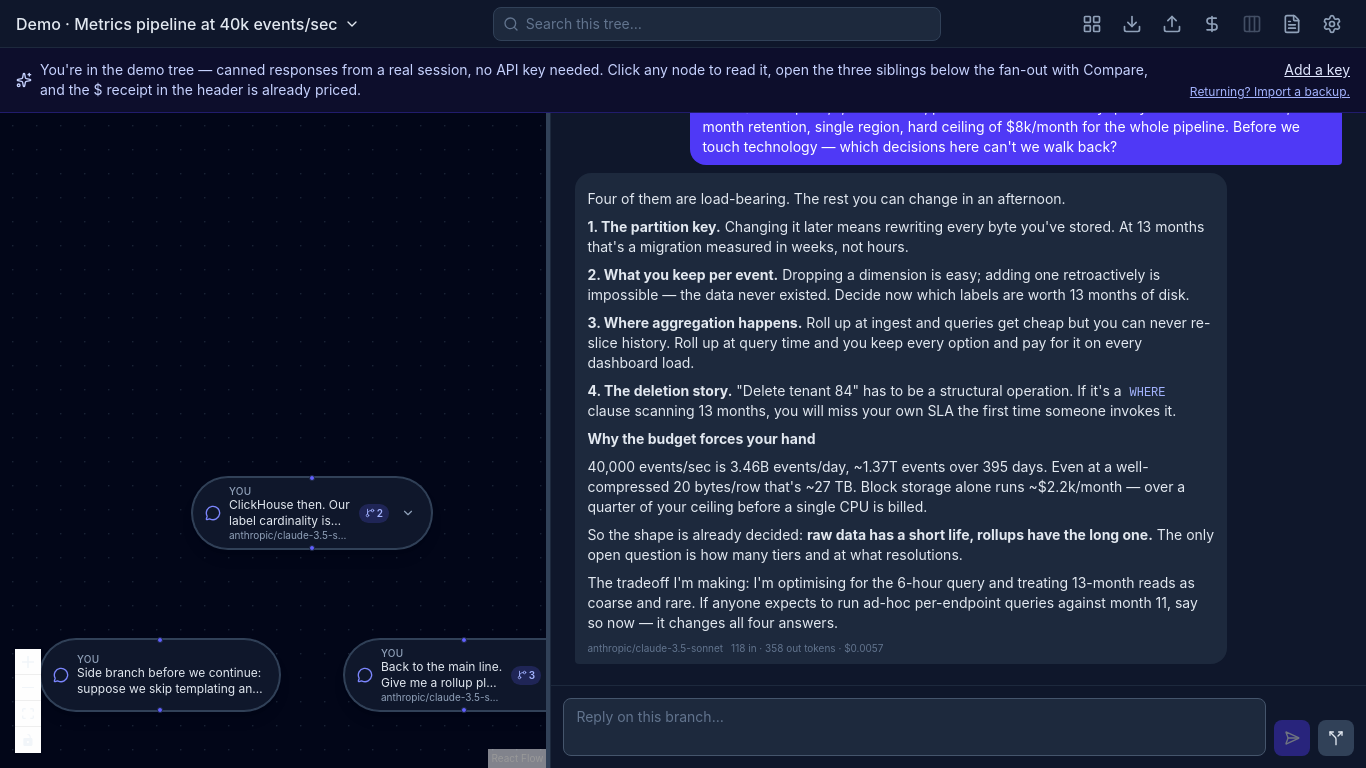
Test: first run with an empty database and no API key › lands on the demo tree, fully explorable, with a priced receipt
(page scrolled)
Expected: the button "Demo · Metrics pipeline at 40k events/sec" is shown, top-left (16, 12), bottom-right (360, 36)
Expected: the text "load-bearing" is shown, top-left (587, 190), bottom-right (1066, 207)
What coordinates should you click on to do the following:
click the button titled "Cost receipt for this tree"
I would click on:
 (1212, 24)
Its box is top-left (1194, 6), bottom-right (1230, 42).
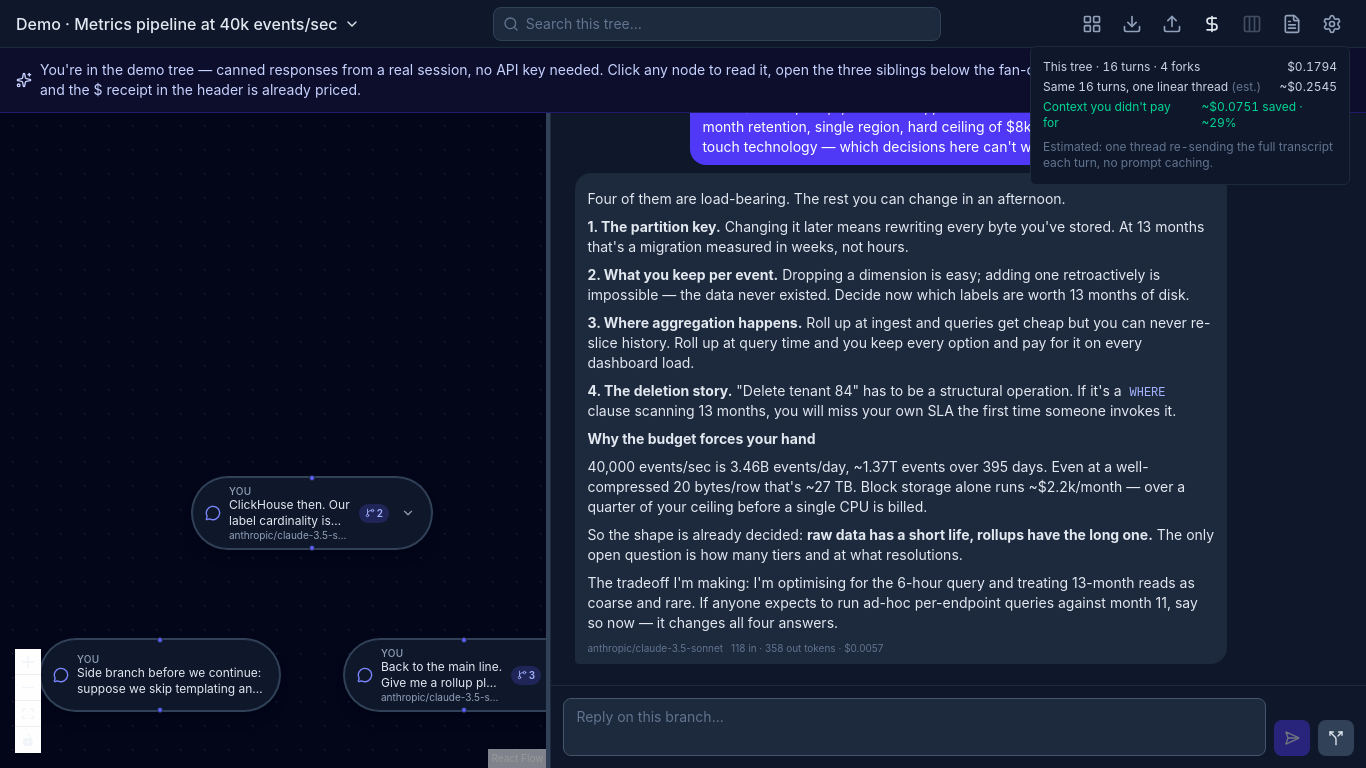
Result: the text "Context you didn't pay for" is shown at top-left (1043, 98), bottom-right (1186, 130)
Result: the text "This tree · 16 turns · 4 forks" is shown 2 times at top-left (1043, 58), bottom-right (1200, 74); top-left (1043, 78), bottom-right (1261, 94)
Result: the text "~$0.0751 saved · ~29%" is shown at top-left (1202, 98), bottom-right (1303, 130)
